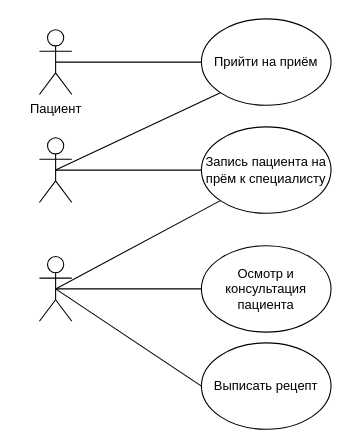
Image size: 350x448. Some labels were removed from this diagram. The shapes that lost their labels are listed below. From the top down, each one's centre as x and y in pixels, then its label:
At point (55, 169): "Регистратор".
At point (55, 288): "Специалист".
